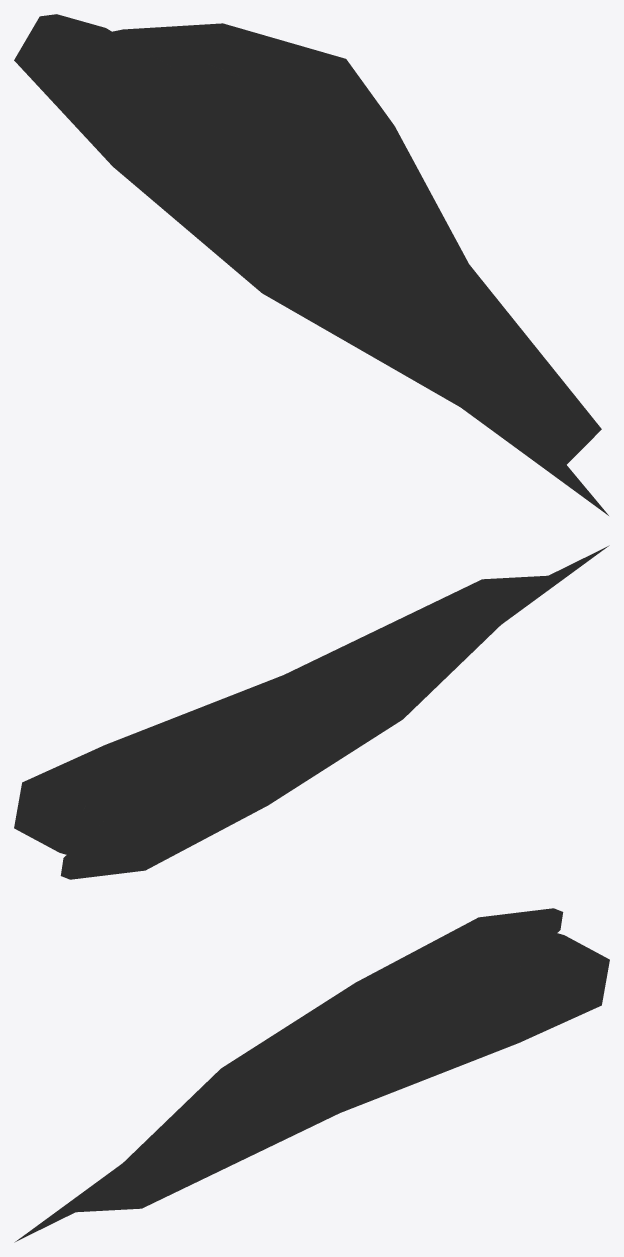
Rendered from feathers.fbx.
3 views of the same model, one above another, from view 1: azimuth 30°, elevation 25°; view 2: azimuth 150°, elevation 25°; view 3: azimuth 330°, elevation 25° (orthographic). The views are drawn at different scales.
Visible parts, largest first — view 1: feather22, feather24, feather23; view 2: feather22, feather23, feather24; view 3: feather22, feather24, feather23.
Boxes of the visible parts, x1,y1,x2,y2 form: feather22: (14,23,608,515); feather24: (14,14,562,427); feather23: (61,35,566,464); feather22: (14,545,609,870); feather23: (71,577,543,864); feather24: (60,592,500,879); feather22: (14,917,609,1242); feather24: (123,908,563,1171); feather23: (77,924,552,1211).
Size of the model in its own units: 8.31 by 9.54e-07 by 31.09.
1 material, 1 textured.
